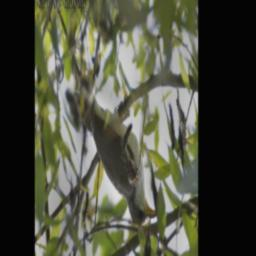Cuckoo: (58, 8, 158, 228)
